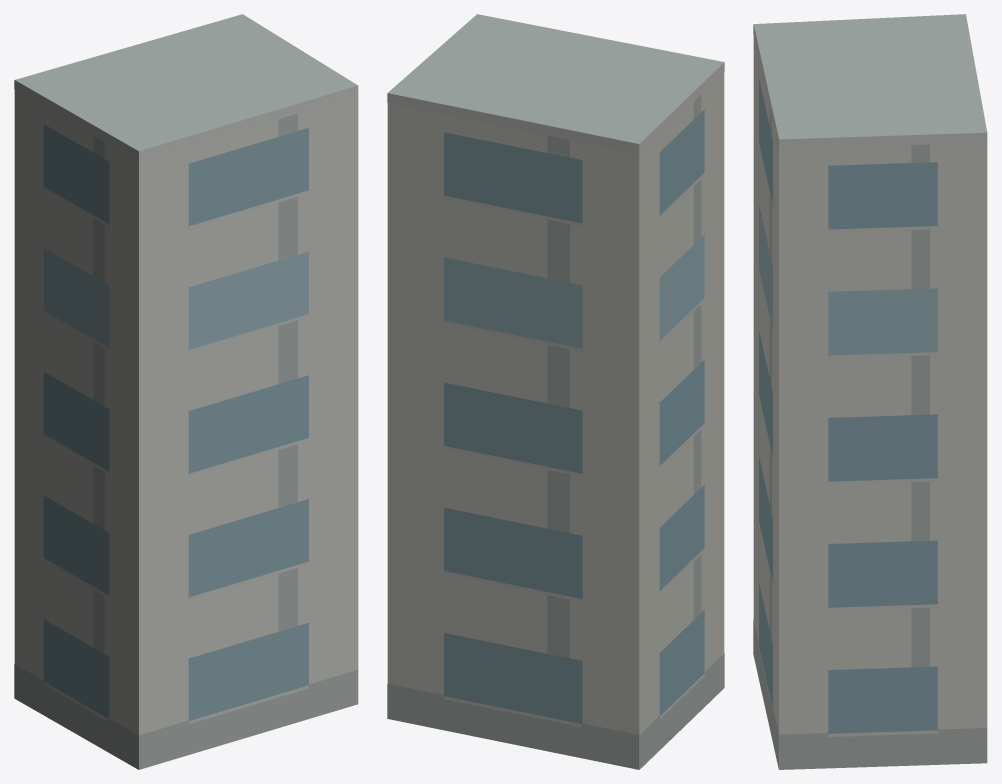
File: survey-upis-32515086.glb
The picture shows the model from 3 angles, left to right: view 1: azimuth 30°, elevation 25°; view 2: azimuth 150°, elevation 25°; view 3: azimuth 270°, elevation 25°; orthographic projection.
Visible parts, largest first — view 1: survey-upis-32515086.tmp; view 2: survey-upis-32515086.tmp; view 3: survey-upis-32515086.tmp.
Boxes of the visible parts, bbox=[...] form: survey-upis-32515086.tmp: bbox=[14, 14, 358, 769]; survey-upis-32515086.tmp: bbox=[387, 14, 724, 769]; survey-upis-32515086.tmp: bbox=[753, 14, 987, 769].
Bounding box in the file's own units: 6.51 × 15.25 × 5.13.
